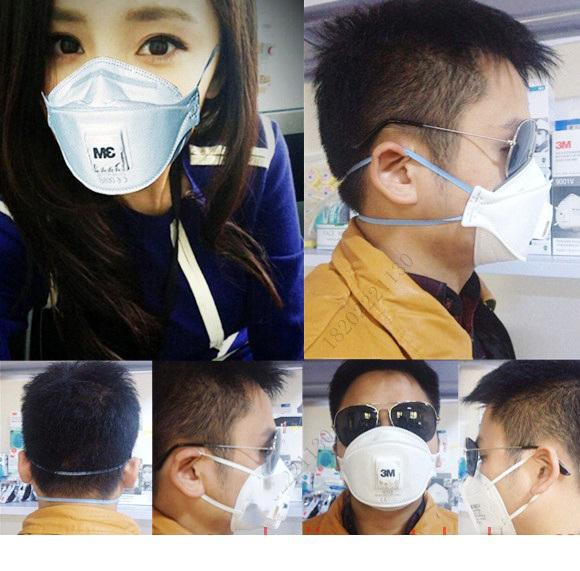OK: (43, 5, 222, 184), (447, 102, 553, 266), (337, 402, 441, 506), (460, 417, 543, 539), (222, 410, 297, 531)
